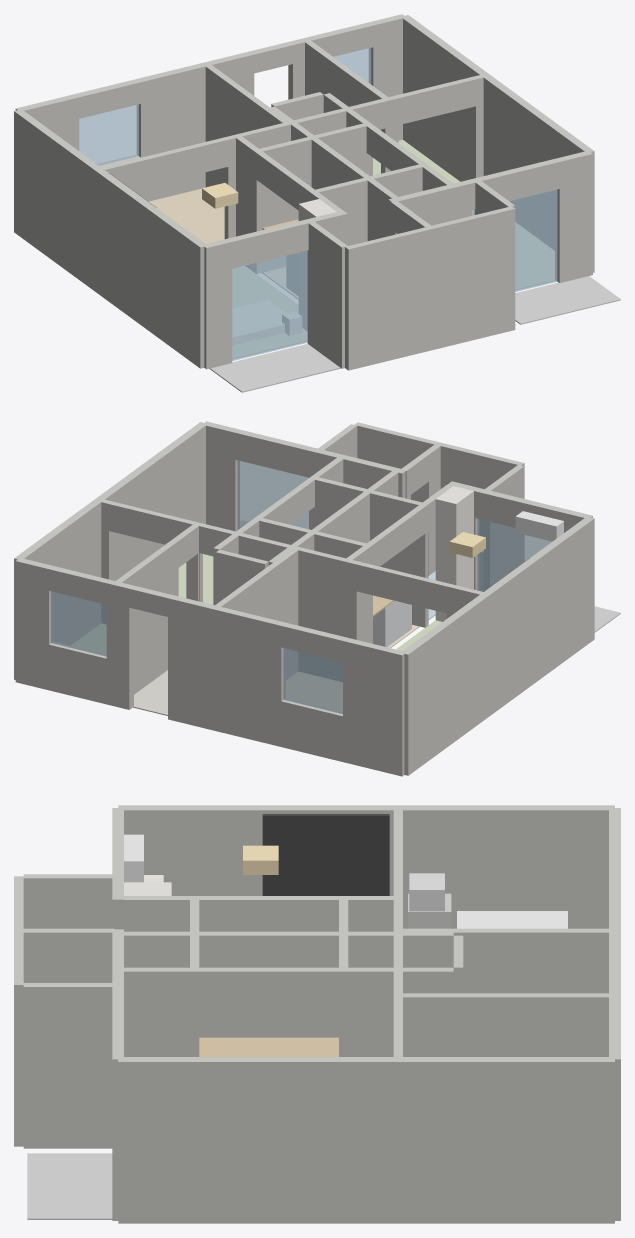
Rendered from room.glb.
3 views of the same model, one above another, from view 1: azimuth 30°, elevation 25°; view 2: azimuth 150°, elevation 25°; view 3: azimuth 270°, elevation 25° (orthographic). The views are drawn at different scales.
Visible parts, largest first — view 1: kobiki302; view 2: kobiki302; view 3: kobiki302.
Boxes of the visible parts, x1,y1,x2,y2 form: kobiki302: (14,14,620,392); kobiki302: (14,421,620,776); kobiki302: (14,805,620,1223).
Size of the model in its own units: 7.66 by 2.27 by 7.66.
